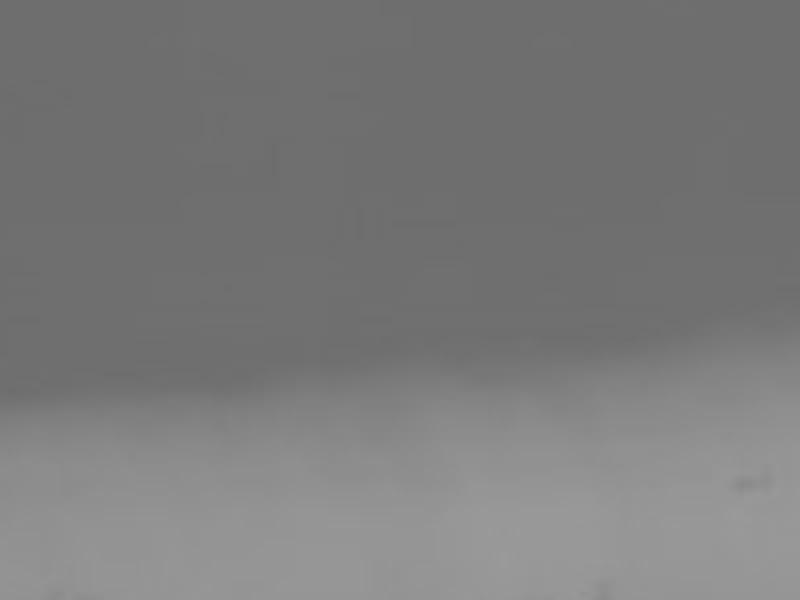defect: (736, 477, 753, 493)
